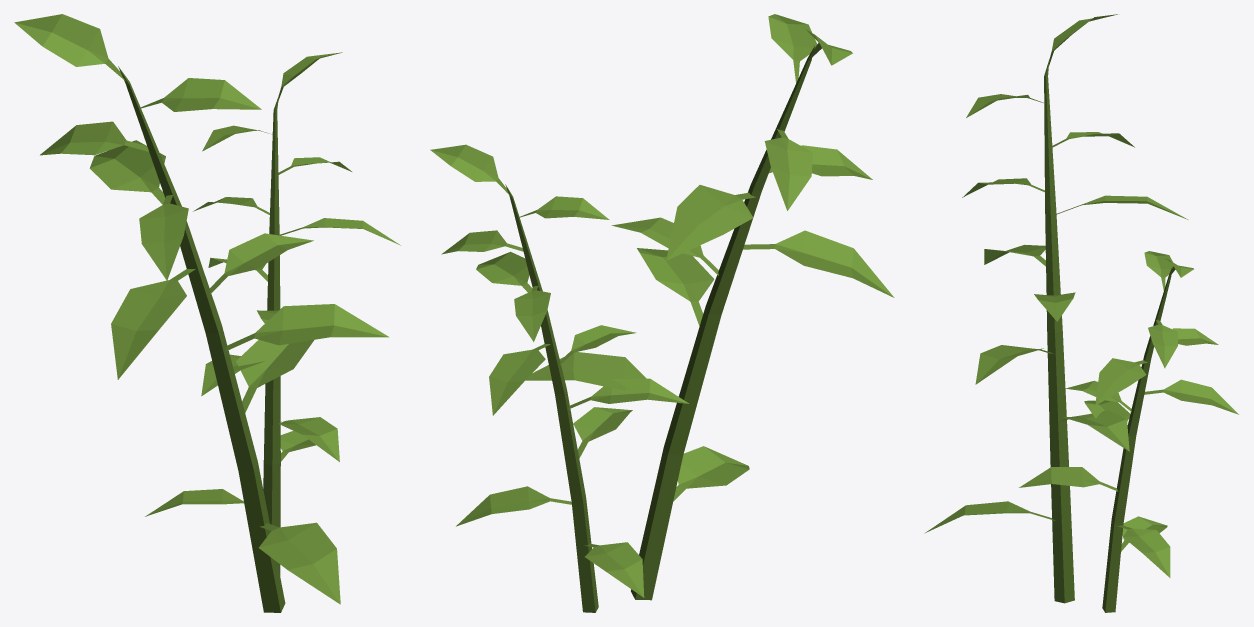
The model's file is CS_Plant_06_L1.fbx.
The picture shows the model from 3 angles, left to right: view 1: azimuth 30°, elevation 25°; view 2: azimuth 150°, elevation 25°; view 3: azimuth 270°, elevation 25°; orthographic projection. The views are drawn at different scales.
Visible parts, largest first — view 1: Plant_06_L1_b, Plant_06_L1_a; view 2: Plant_06_L1_b, Plant_06_L1_a; view 3: Plant_06_L1_b, Plant_06_L1_a.
Part boxes in pixels (x1=…): Plant_06_L1_b: x1=14, y1=14, x2=389, y2=612; Plant_06_L1_a: x1=145, y1=52, x2=400, y2=575; Plant_06_L1_b: x1=525, y1=14, x2=894, y2=600; Plant_06_L1_a: x1=430, y1=144, x2=689, y2=612; Plant_06_L1_b: x1=924, y1=14, x2=1188, y2=603; Plant_06_L1_a: x1=1019, y1=251, x2=1238, y2=612.
Size of the model in its own units: 0.2414 by 0.39 by 0.2195.
